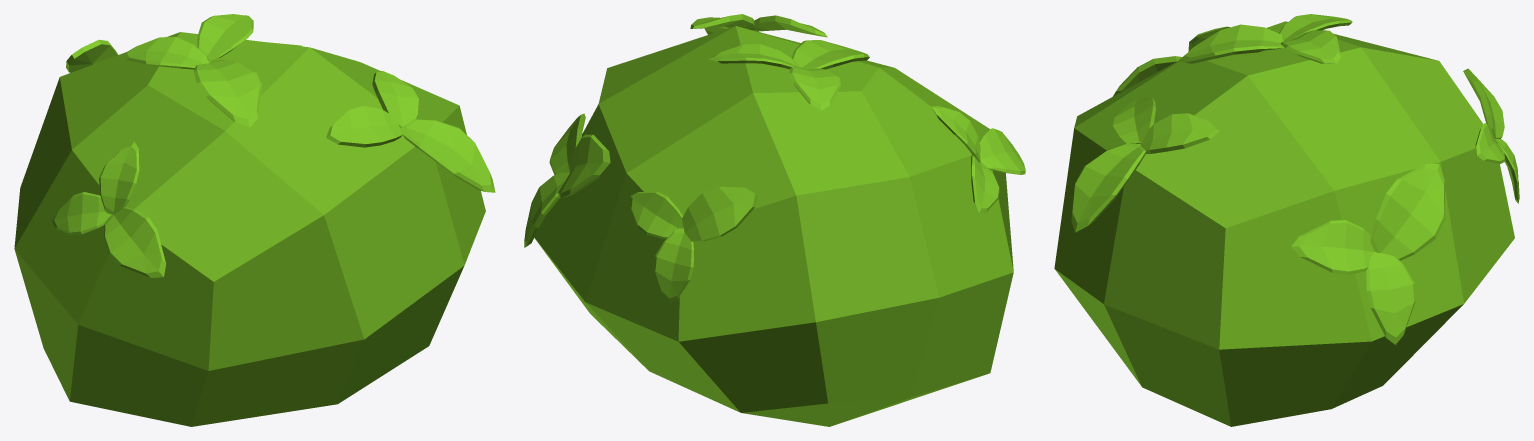
The model's file is SM_Bush_1.fbx.
3 views of the same model, side by side, from view 1: azimuth 30°, elevation 25°; view 2: azimuth 150°, elevation 25°; view 3: azimuth 270°, elevation 25° (orthographic).
Visible parts, largest first — view 1: SM_Bush_1_LOD0; view 2: SM_Bush_1_LOD0; view 3: SM_Bush_1_LOD0.
Part boxes in pixels (x1,y1,x2,y2): SM_Bush_1_LOD0: (14,14,495,426); SM_Bush_1_LOD0: (524,14,1025,426); SM_Bush_1_LOD0: (1054,14,1519,426).
Bounding box in the file's own units: 155 × 149 × 127.
Materials: 1 (1 with a texture image).
